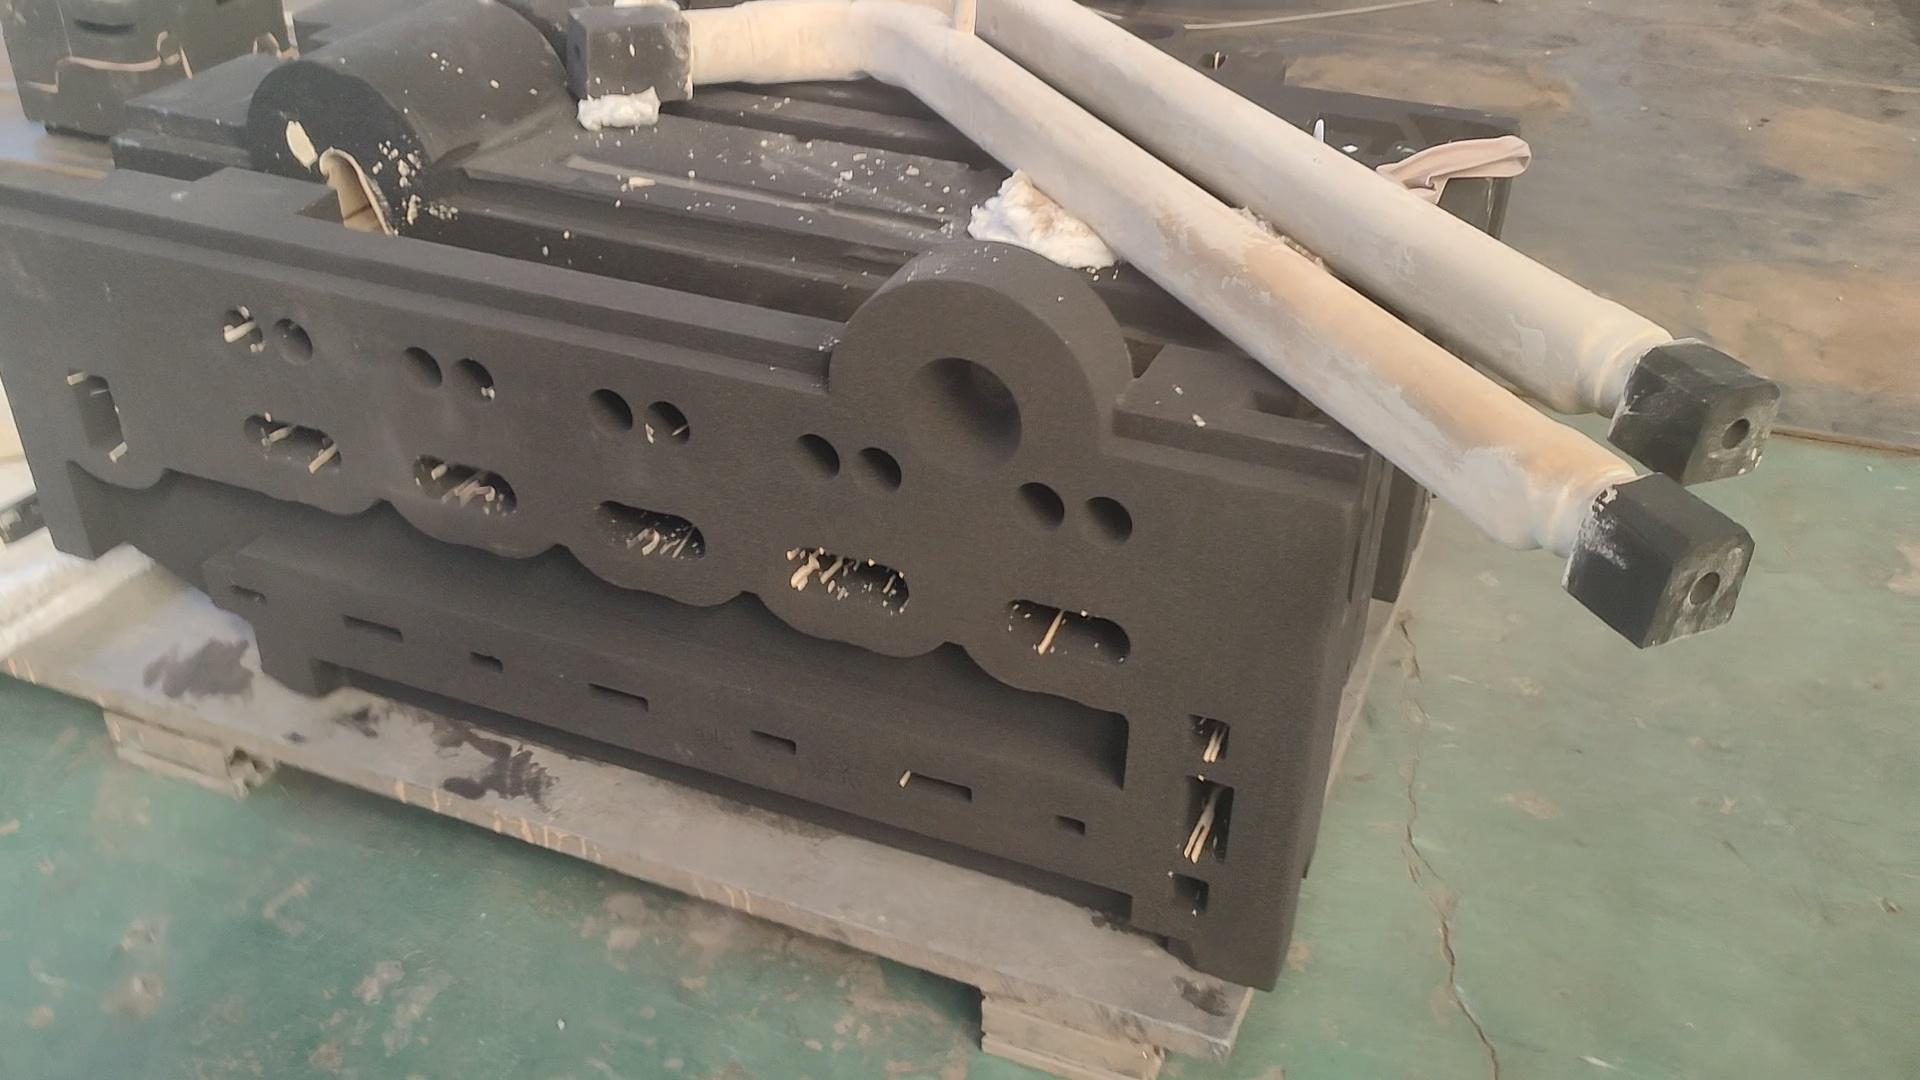pouring hole: (901, 357, 1023, 477), (1113, 18, 1175, 44)
